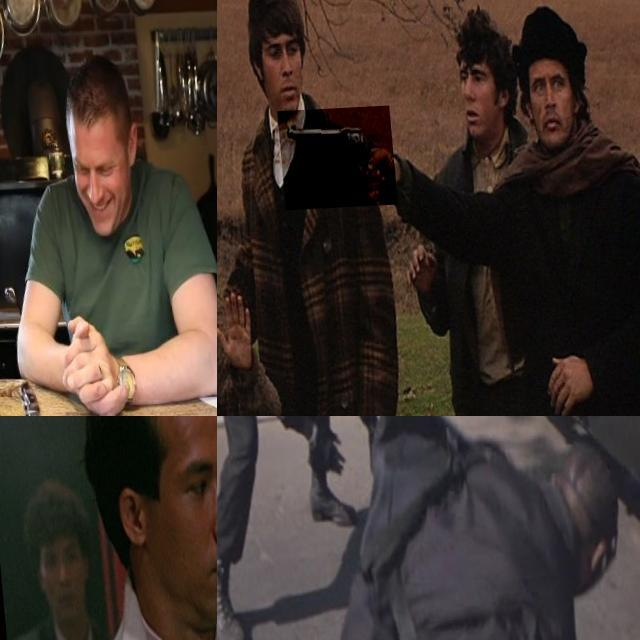-: (0, 185, 53, 327)
gun-knife-thesis - v11 Yolov5 augmented: (274, 110, 393, 212), (217, 416, 252, 498)
